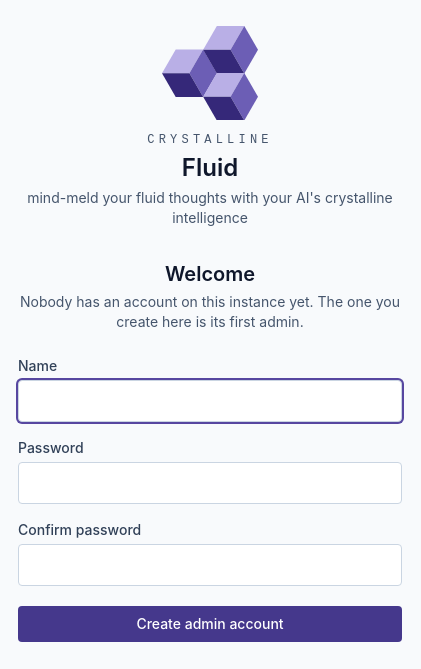
Test: an instance with no accounts yet › says why the button is dead before the confirmation is filled in
Type "ada" into the field labelled "Name". click: {"x": 210, "y": 401}
box: [18, 380, 402, 422]
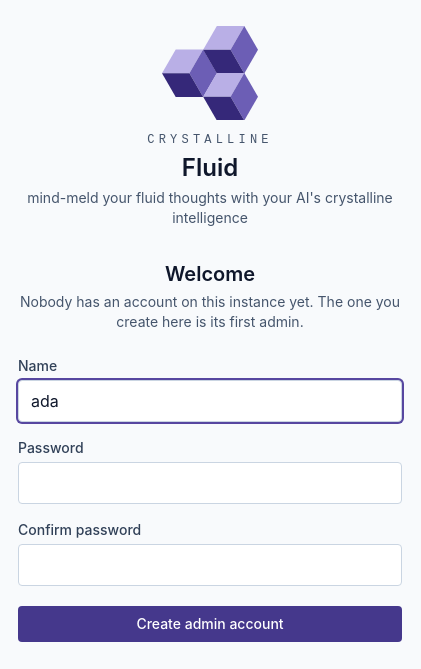
Type "hunter2" into the password field labelled "Password". click: {"x": 210, "y": 483}
box: [18, 462, 402, 504]
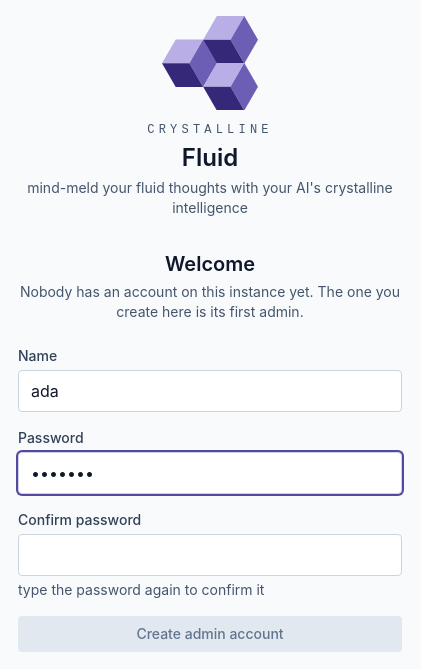
Expected: the text "type the password again to confirm it" is shown, [18, 581, 264, 598]
Expected: the button "Create admin account" is disabled, [18, 616, 402, 652]
